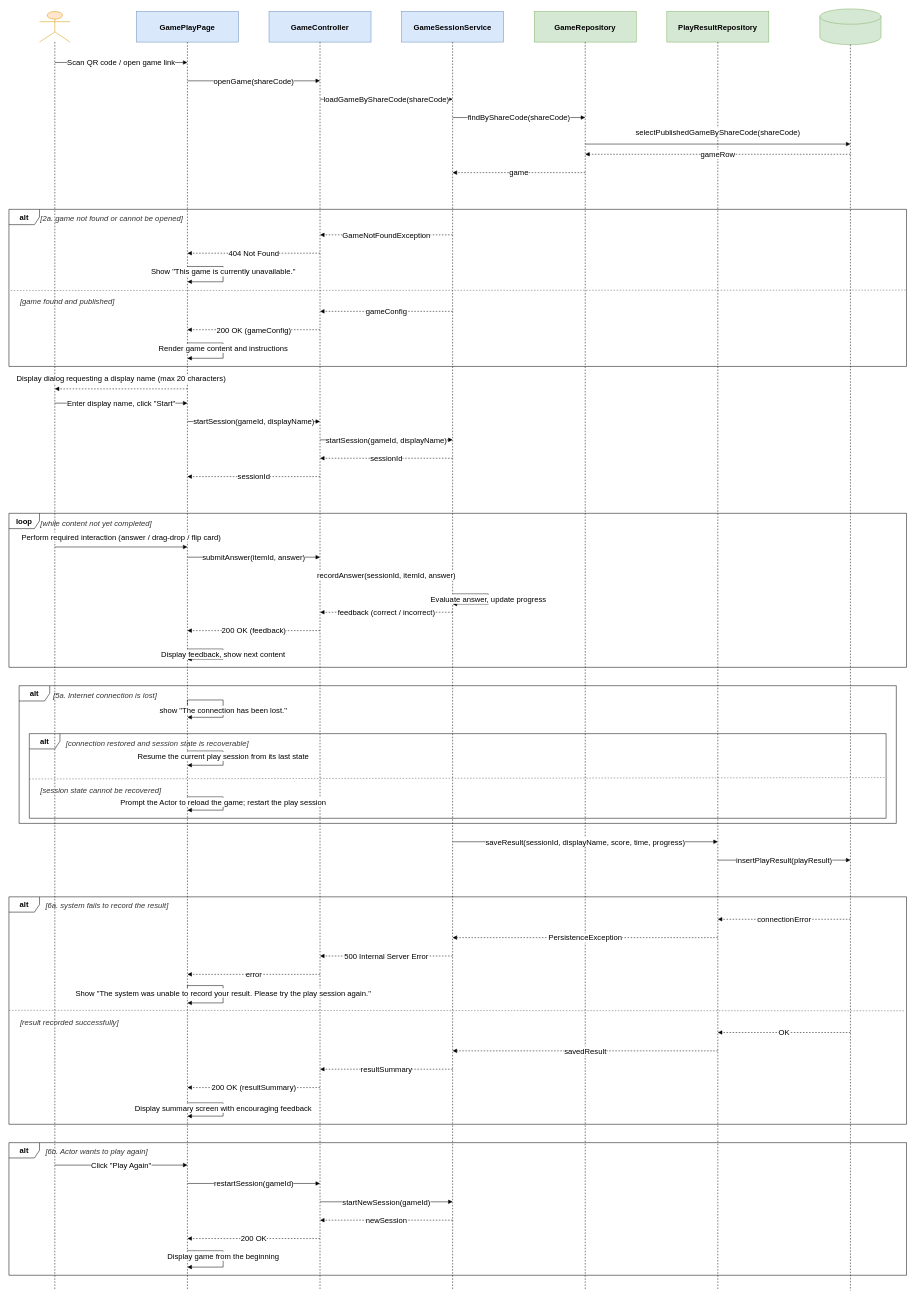
Image size: 915x1300. Some labels were removed from this diagram. Here are the shapes that lost their labels. From the top down, the centre of each, then its label:
point 54,26: Student
point 850,26: PostgreSQL
